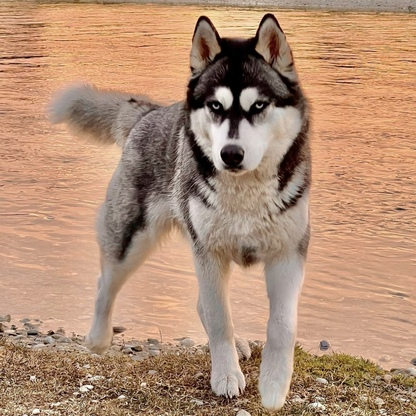husky: (40, 9, 322, 416)
